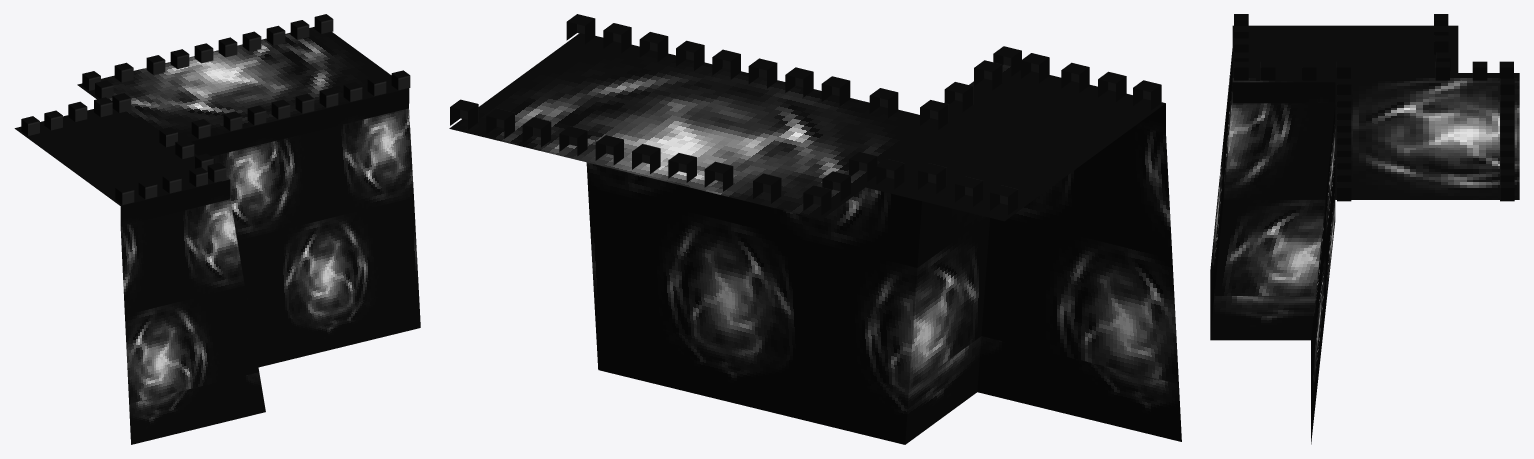
The model's file is chengqiang_02.FBX.
3 renders of one model, left to right at view 1: azimuth 30°, elevation 25°; view 2: azimuth 150°, elevation 25°; view 3: azimuth 270°, elevation 25°, orthographic. The views are drawn at different scales.
Visible parts, largest first — view 1: Object032; view 2: Object032; view 3: Object032.
Part boxes in pixels (x1=…): Object032: x1=14, y1=14, x2=420, y2=444; Object032: x1=449, y1=14, x2=1181, y2=444; Object032: x1=1210, y1=14, x2=1519, y2=444.
Bounding box in the file's own units: 3649 × 2532 × 2721.
